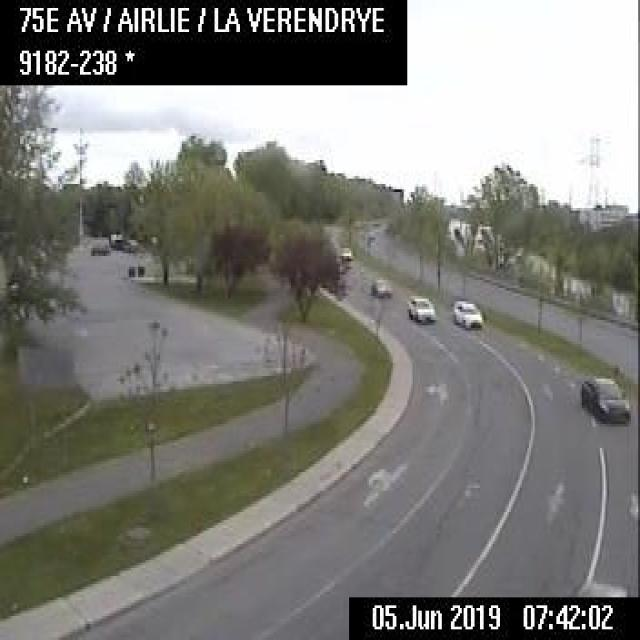vehicle: (576, 371, 629, 424), (449, 295, 482, 328), (406, 293, 434, 323), (367, 272, 393, 299), (336, 241, 354, 259)
